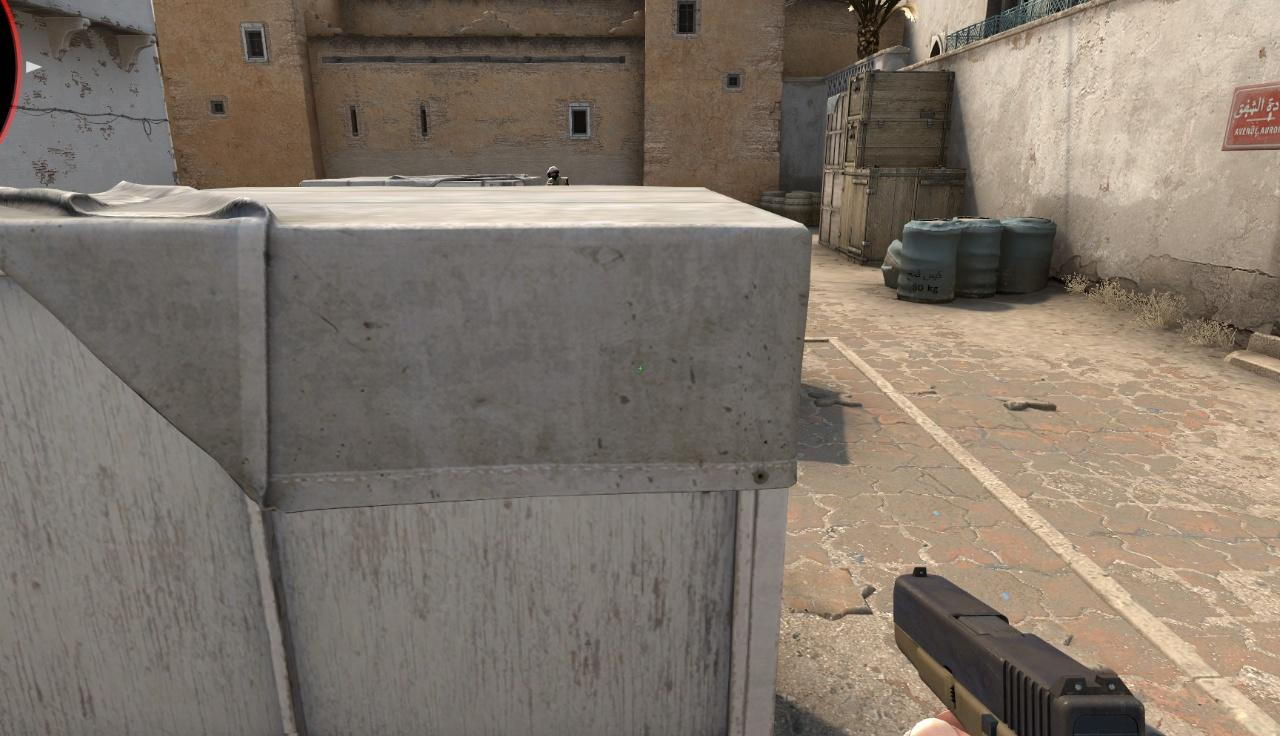ct: (546, 165, 569, 187)
cthead: (548, 167, 559, 180)
pistol: (891, 565, 1188, 736)
